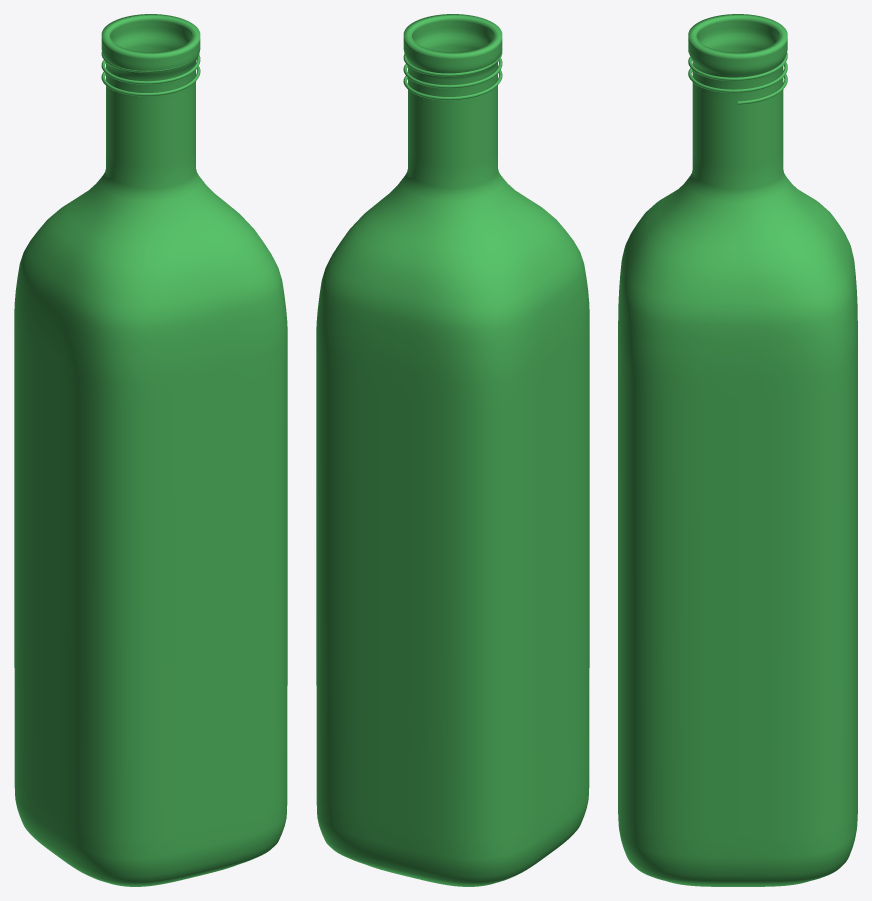
Rendered from green-bottle.glb.
3 renders of one model, left to right at view 1: azimuth 30°, elevation 25°; view 2: azimuth 150°, elevation 25°; view 3: azimuth 270°, elevation 25°, orthographic.
Parts seen in each view (by area): view 1: 04 Green bottle front - hollow glass, 04 Green bottle front - raised screw thread; view 2: 04 Green bottle front - hollow glass, 04 Green bottle front - raised screw thread; view 3: 04 Green bottle front - hollow glass, 04 Green bottle front - raised screw thread.
Part boxes in pixels (x1,y1,x2,y2): 04 Green bottle front - hollow glass: (14,14,287,886); 04 Green bottle front - raised screw thread: (101,52,200,96); 04 Green bottle front - hollow glass: (316,14,589,886); 04 Green bottle front - raised screw thread: (403,50,502,100); 04 Green bottle front - hollow glass: (618,14,857,886); 04 Green bottle front - raised screw thread: (688,50,787,104).
Size of the model in its own units: 0.082 by 0.309 by 0.082.
